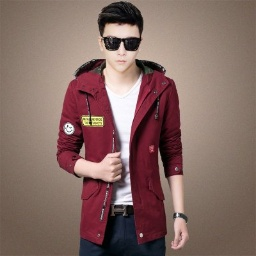face: (97, 2, 145, 72)
